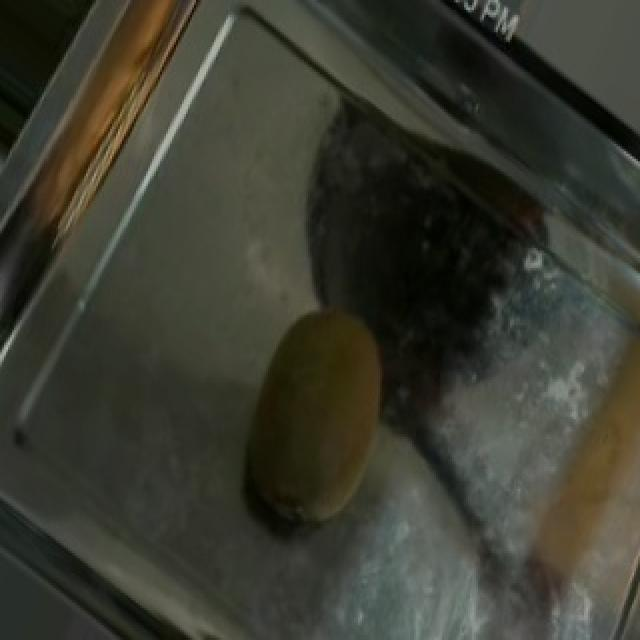Fruit: (206, 293, 412, 558), (484, 325, 640, 637)
